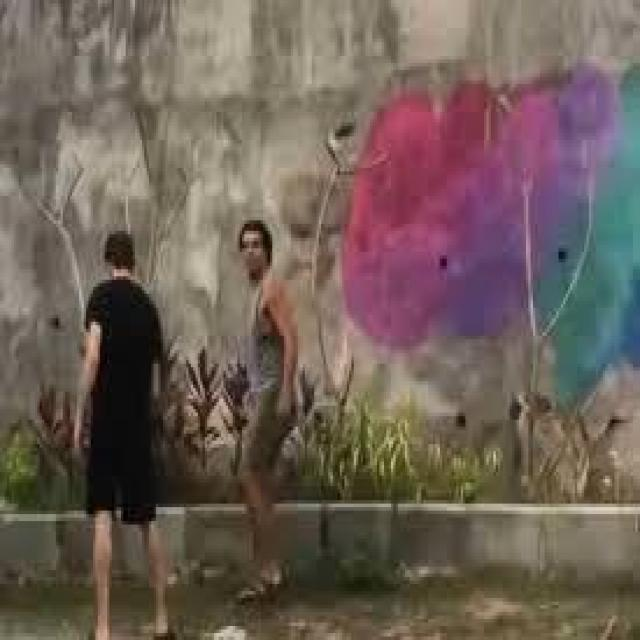nonspitting: (340, 59, 640, 410)
